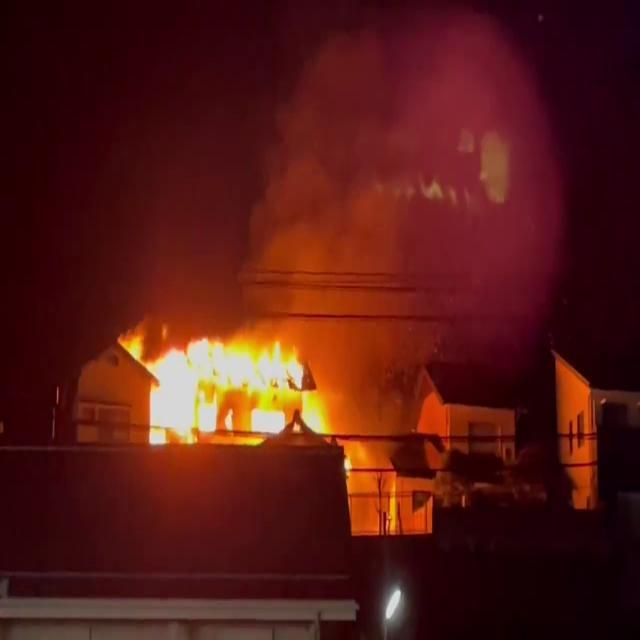Fire: (120, 326, 348, 449)
Smoke: (218, 3, 566, 366)
